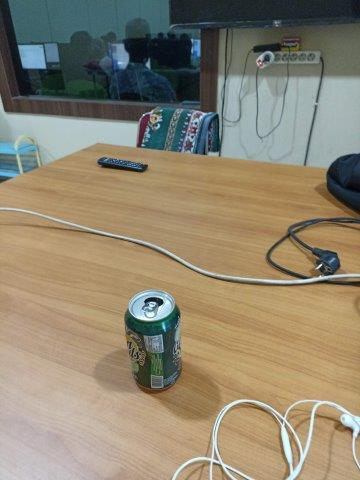kaleng: (125, 289, 181, 394)
